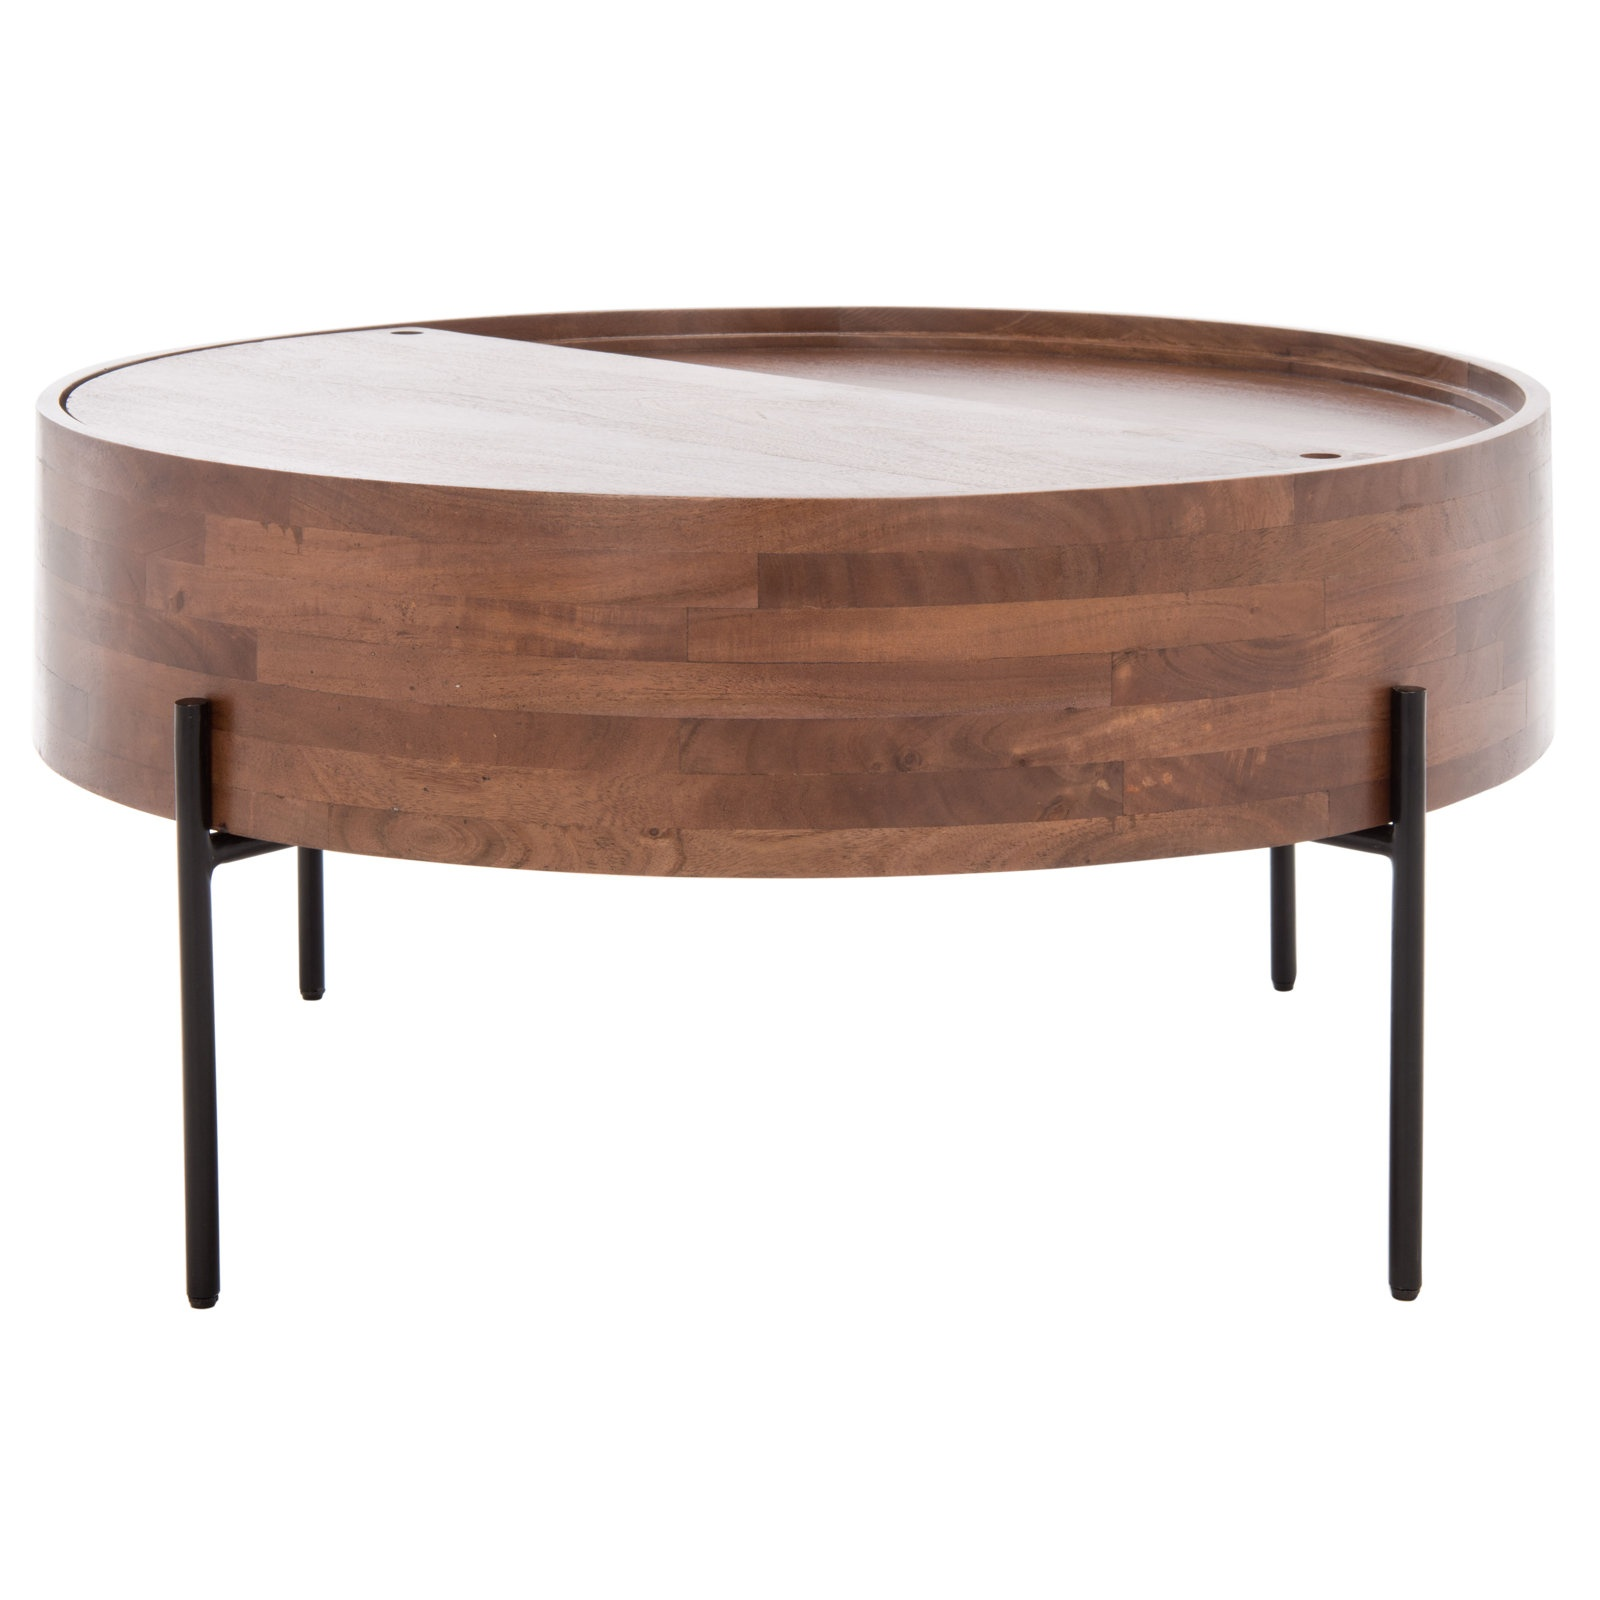obstacle: (37, 309, 1552, 1305)
